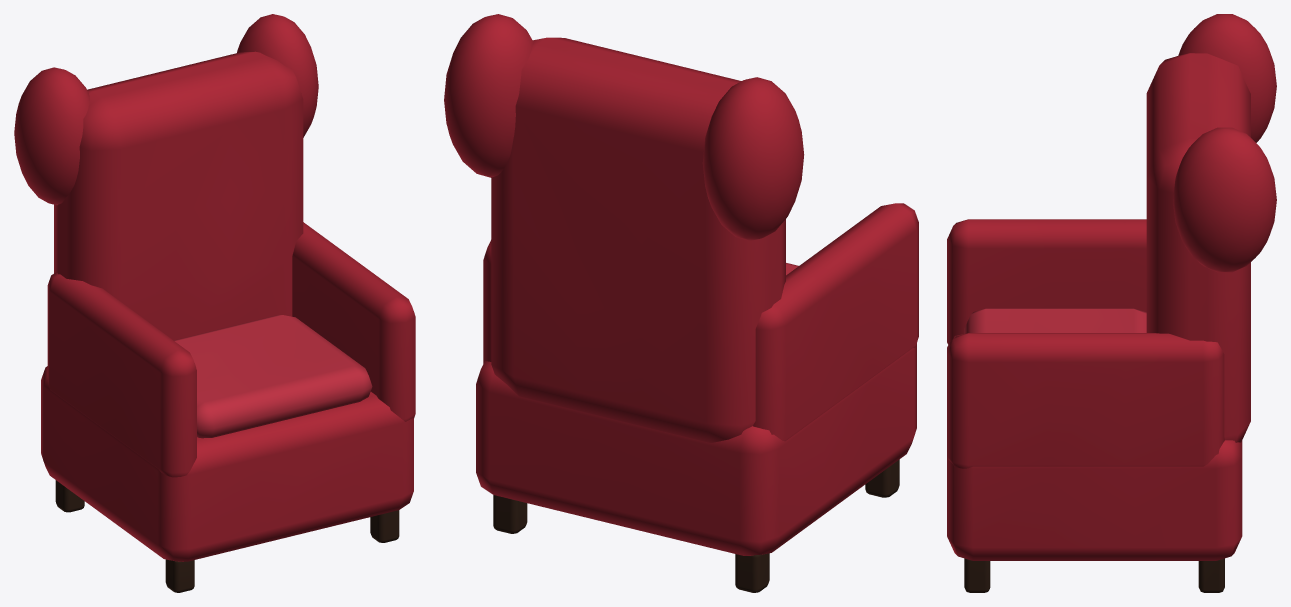
Rendered from furn_crimson_chair.glb.
3 views of the same model, side by side, from view 1: azimuth 30°, elevation 25°; view 2: azimuth 150°, elevation 25°; view 3: azimuth 270°, elevation 25° (orthographic). The views are drawn at different scales.
Parts seen in each view (by area): view 1: furn_crimson_chair_main; view 2: furn_crimson_chair_main; view 3: furn_crimson_chair_main.
Part boxes in pixels (x1,y1,x2,y2): furn_crimson_chair_main: (14, 14, 415, 592); furn_crimson_chair_main: (444, 14, 918, 592); furn_crimson_chair_main: (947, 14, 1276, 592).
Size of the model in its own units: 0.82 by 1.18 by 0.76.
